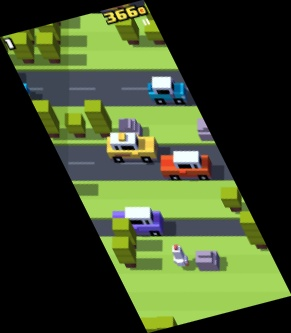car: (160, 149, 211, 181), (106, 132, 158, 163), (112, 206, 163, 237), (147, 76, 188, 107), (5, 78, 31, 97)
duck: (170, 244, 189, 268)
rock: (194, 248, 221, 271), (119, 119, 143, 139), (194, 118, 215, 140)
tree: (28, 101, 61, 138), (83, 99, 114, 138), (239, 212, 272, 248), (109, 216, 138, 250), (35, 32, 62, 66), (111, 236, 138, 269), (114, 13, 140, 45), (9, 32, 34, 64), (141, 19, 169, 47), (34, 17, 63, 41), (221, 188, 245, 212), (64, 114, 87, 139), (157, 316, 179, 333), (138, 316, 157, 333)
